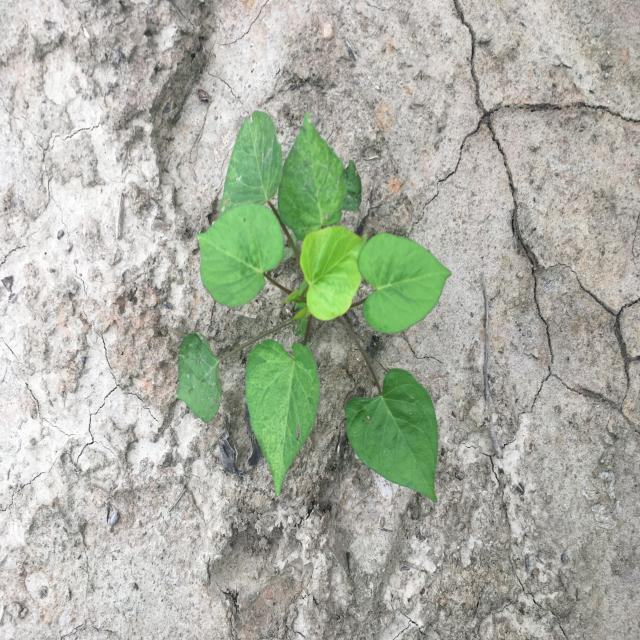MorningGlory: (176, 110, 453, 503)
